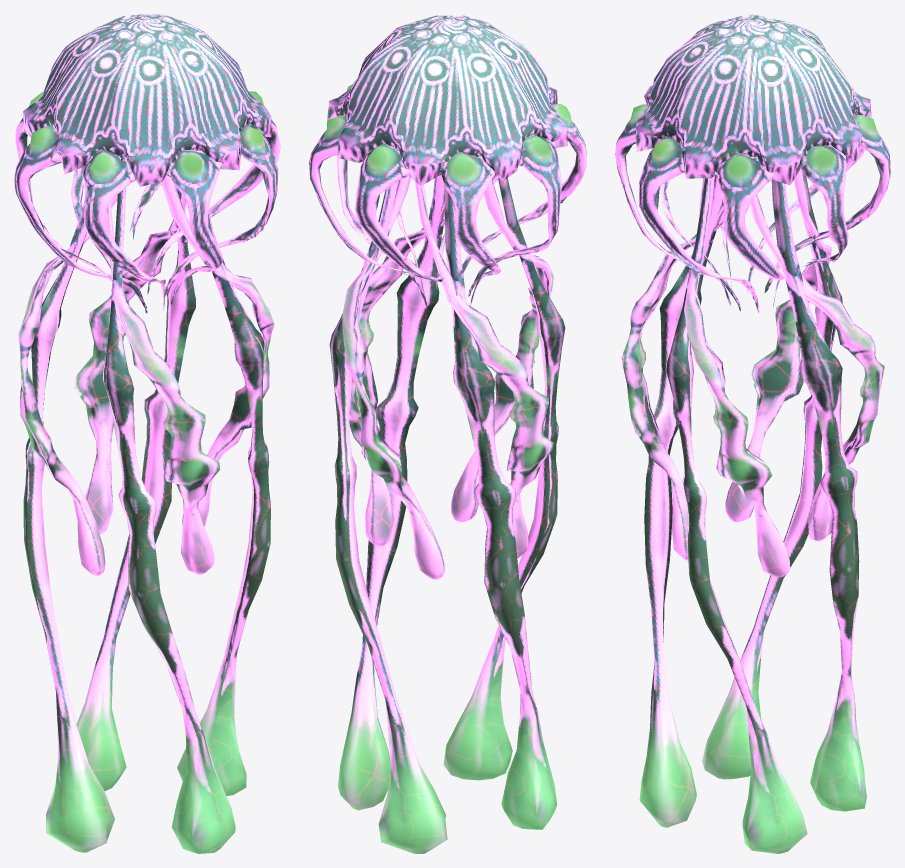
The model's file is otro-jellyfish.gltf.
3 views of the same model, side by side, from view 1: azimuth 30°, elevation 25°; view 2: azimuth 150°, elevation 25°; view 3: azimuth 270°, elevation 25° (orthographic).
Bounding box in the file's own units: 3.67 × 11.66 × 3.67.
1 material, 1 textured.
